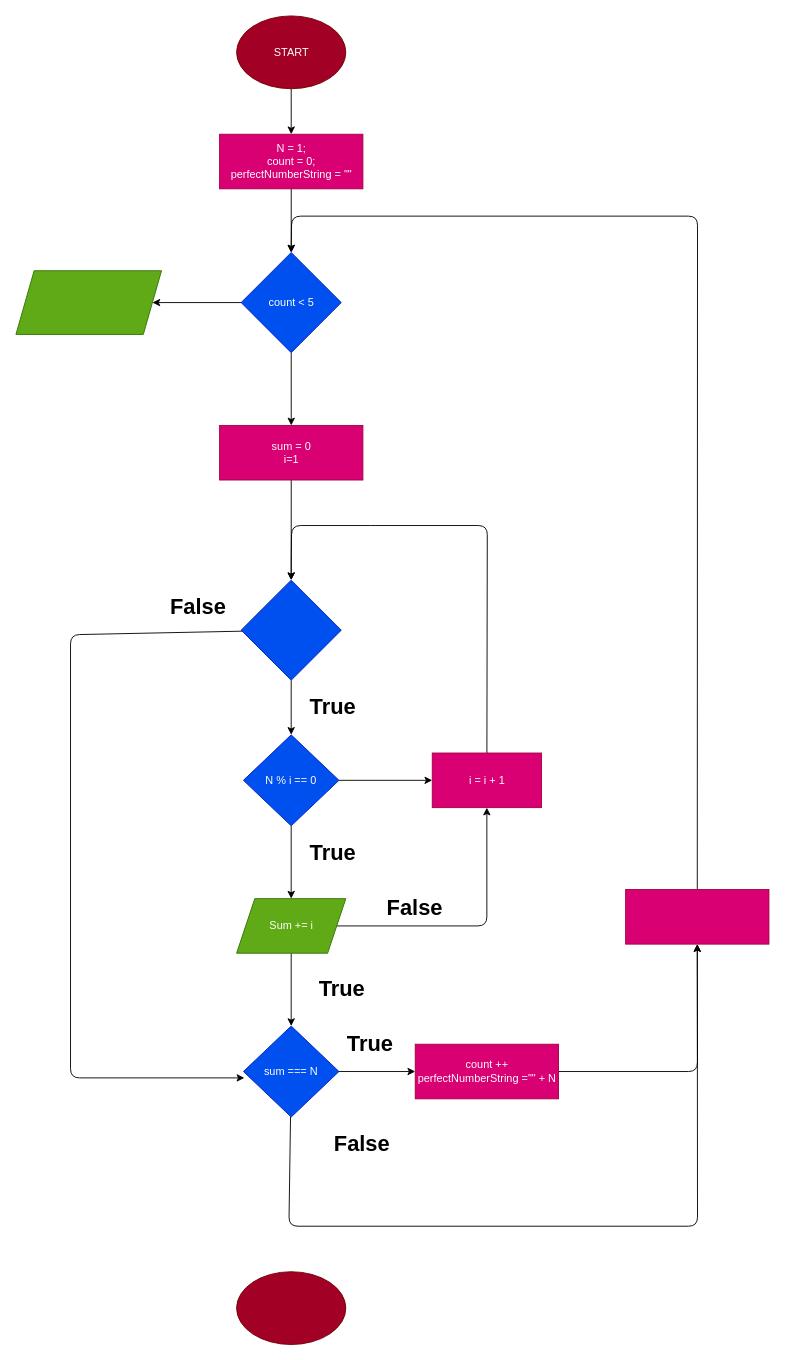
This 785x1360 diagram has some shape labels left out. The centre of each missing label's shape, as x and y in pixels:
DISPLAY perfectNumberString: pixel 88 302
END: pixel 291 1308
i < N: pixel 290 629
N++: pixel 697 916
